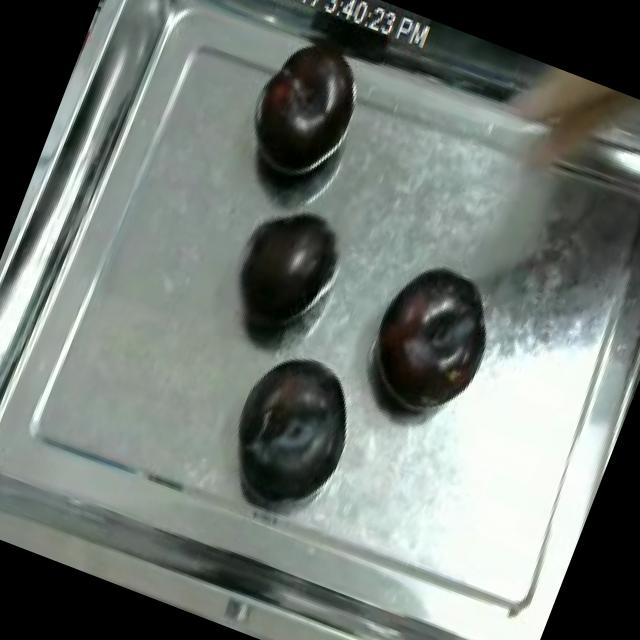Fruit: (206, 335, 375, 526), (347, 244, 515, 436), (229, 26, 376, 197), (216, 190, 352, 351)
